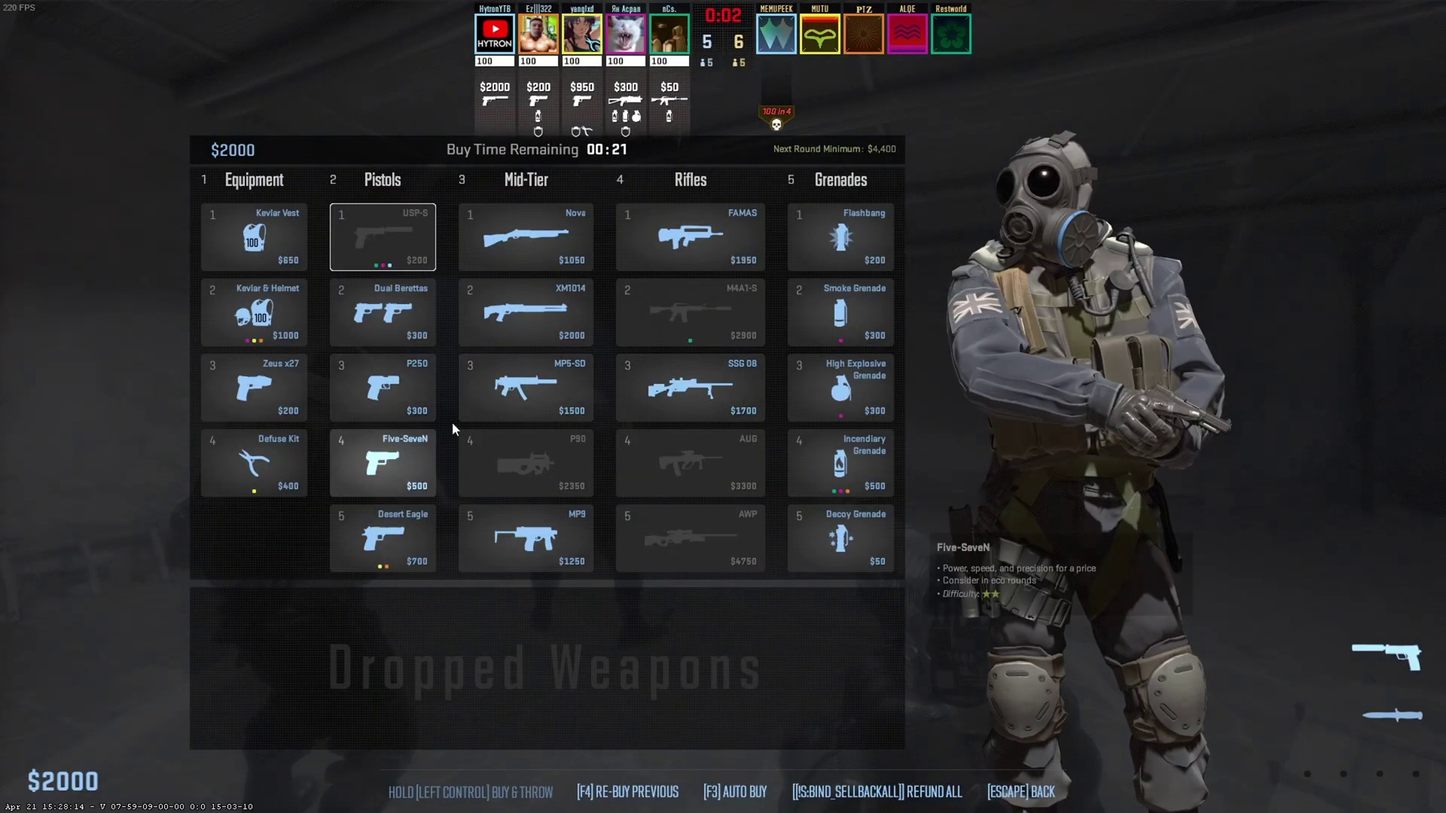CT: (961, 135, 1219, 810)
